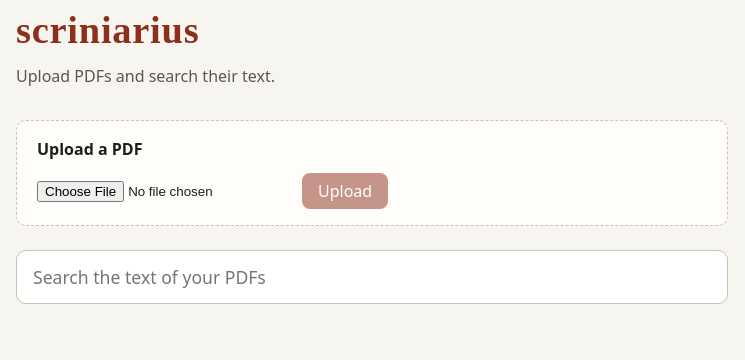
Test: says so when nothing matches
Type "zebra" into the search field labelled "Search".
click(372, 277); type("zebra")  # box [16,250,728,304]
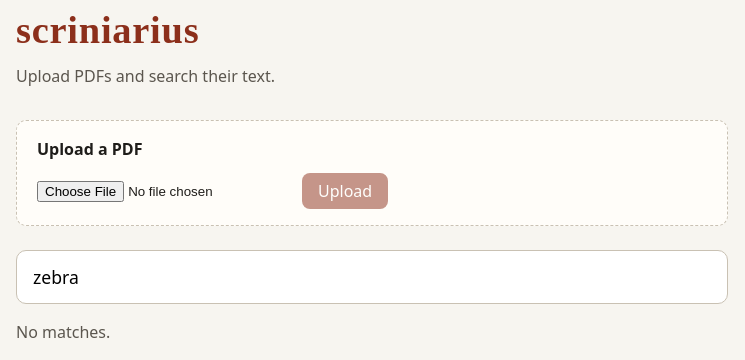
expect the text "No matches." is shown: met, box [16,321,110,343]
